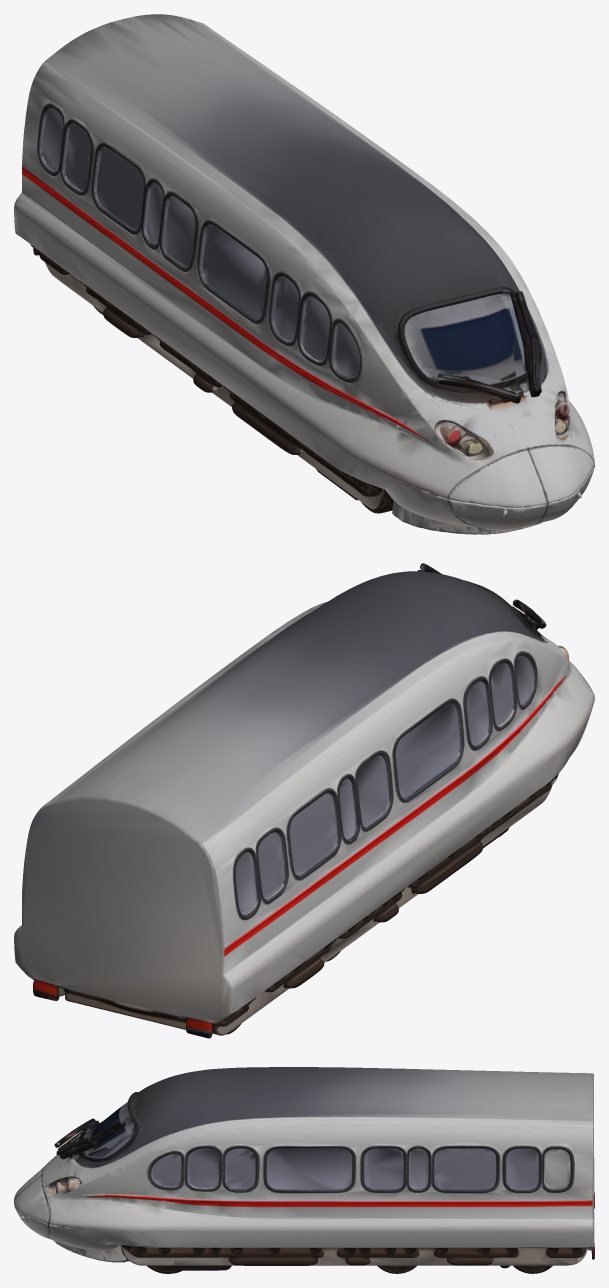
Rendered from locomotive.glb.
3 renders of one model, top to bottom at view 1: azimuth 30°, elevation 25°; view 2: azimuth 150°, elevation 25°; view 3: azimuth 270°, elevation 25°, orthographic. The views are drawn at different scales.
Parts seen in each view (by area): view 1: texture_pbr_v128; view 2: texture_pbr_v128; view 3: texture_pbr_v128.
Part boxes in pixels (bbox=[...]): texture_pbr_v128: bbox=[14, 14, 594, 534]; texture_pbr_v128: bbox=[14, 563, 594, 1038]; texture_pbr_v128: bbox=[14, 1067, 594, 1273].
Size of the model in its own units: 0.3376 by 0.3835 by 1.14.
Materials: 1 (1 with a texture image).
